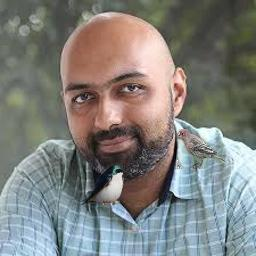Sparrow: (177, 129, 225, 169)
Swallow: (80, 163, 126, 205)
